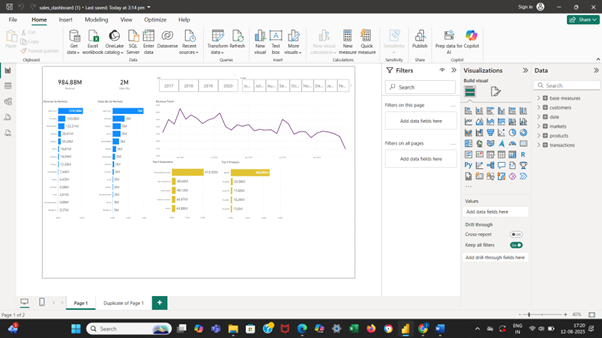

What the dashboard file says about the page in this screenshot:
{"tool":"powerbi","page":{"name":"Page 1","canvas":[1990,1350],"ordinal":0},"visuals":[{"type":"card","fields":{"Values":["base measures.Revenue"]},"box":[0,0,348.3,211.7],"z":0},{"type":"card","fields":{"Values":["base measures.Sales Qty"]},"box":[348.3,0,348.3,211.7],"z":1000},{"type":"barChart","title":"Revenue by Markets","fields":{"Y":["base measures.Revenue"],"Category":["markets.markets_name"]},"box":[0,211.7,348.3,771.7],"z":2000},{"type":"barChart","title":"Sales Qty by Markets","fields":{"Y":["base measures.Sales Qty"],"Category":["markets.markets_name"]},"box":[348.3,211.7,348.3,771.7],"z":3000},{"type":"slicer","fields":{"Values":["date.year"]},"box":[696.7,40,540,106.7],"z":4000},{"type":"slicer","fields":{"Values":["date.year"]},"box":[706.7,50,540,106.7],"z":5000},{"type":"slicer","fields":{"Values":["date.year"]},"box":[716.7,60,551.7,106.7],"z":6000},{"type":"slicer","fields":{"Values":["date.cy_date"]},"box":[1246.7,60,731.7,106.7],"z":7000},{"type":"barChart","title":"Top 5 Customers","fields":{"Y":["base measures.Revenue"],"Category":["customers.custmer_name"]},"box":[696.7,598.3,440,385],"z":8000},{"type":"barChart","title":"Top 5 Products","fields":{"Y":["base measures.Revenue"],"Category":["products.product_code"]},"box":[1136.7,600,403.3,385],"z":8001},{"type":"lineChart","title":"Revenue Trend","fields":{"Y":["base measures.Revenue"],"Category":["date.cy_date"]},"box":[716.7,211.7,1243.3,386.7],"z":8002}]}

Visuals, with their boxes on the page's 1990x1350 design canvas (x1, y1, x2, y2). These are canvas units, not pixel positions in the 602x338 screenshot, which may show the page scaled, cropped or inside an application window:
card - base measures.Revenue: bbox=[0, 0, 348, 212]
card - base measures.Sales Qty: bbox=[348, 0, 697, 212]
"Revenue by Markets" barChart: bbox=[0, 212, 348, 983]
"Sales Qty by Markets" barChart: bbox=[348, 212, 697, 983]
slicer - date.year: bbox=[697, 40, 1237, 147]
slicer - date.year: bbox=[707, 50, 1247, 157]
slicer - date.year: bbox=[717, 60, 1268, 167]
slicer - date.cy_date: bbox=[1247, 60, 1978, 167]
"Top 5 Customers" barChart: bbox=[697, 598, 1137, 983]
"Top 5 Products" barChart: bbox=[1137, 600, 1540, 985]
"Revenue Trend" lineChart: bbox=[717, 212, 1960, 598]
